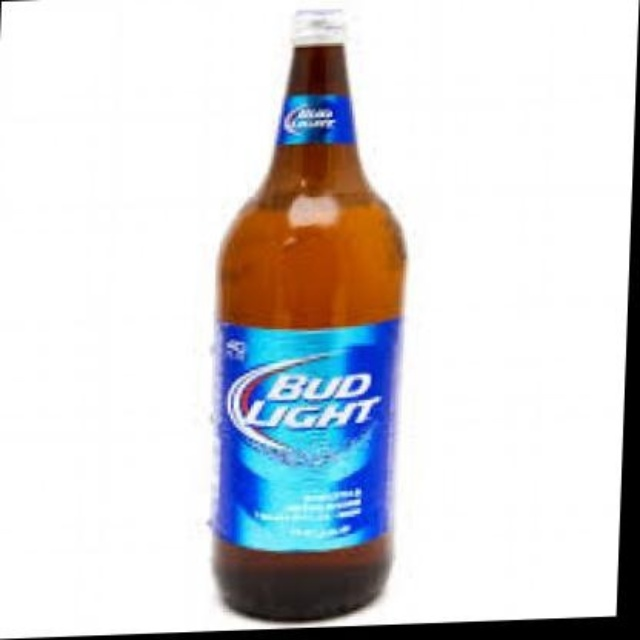trash: (214, 9, 403, 620)
